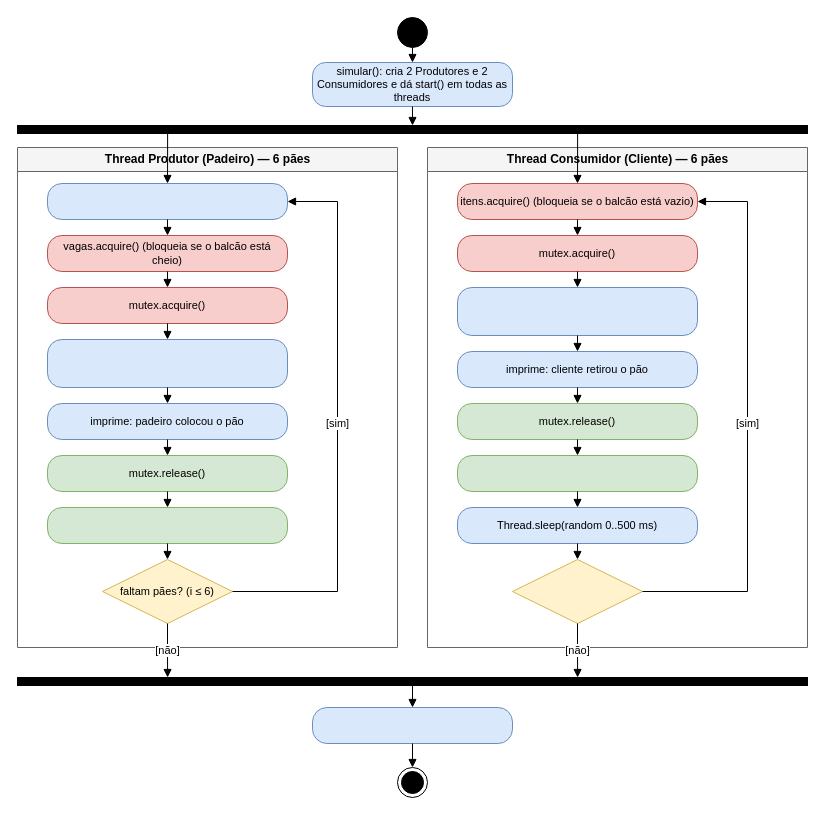
Some shapes in this 825 by 815 pixel diagram are drawn without their labels. The centre of each missing label's shape, as x and y in pixels:
"faltam pães? (i < 6)" belongs at pixel 577 591.
"imprime: fim da simulação" belongs at pixel 412 725.
"itens.release() (acorda um cliente)" belongs at pixel 167 525.
"paes[entrada] = pao; entrada = (entrada + 1) % CAPACIDADE; quantidade++" belongs at pixel 167 363.
"pao = paes[saida]; saida = (saida + 1) % CAPACIDADE; quantidade--" belongs at pixel 577 311.
"Thread.sleep(random 0..200 ms)" belongs at pixel 167 201.
"vagas.release() (acorda um padeiro)" belongs at pixel 577 473.
